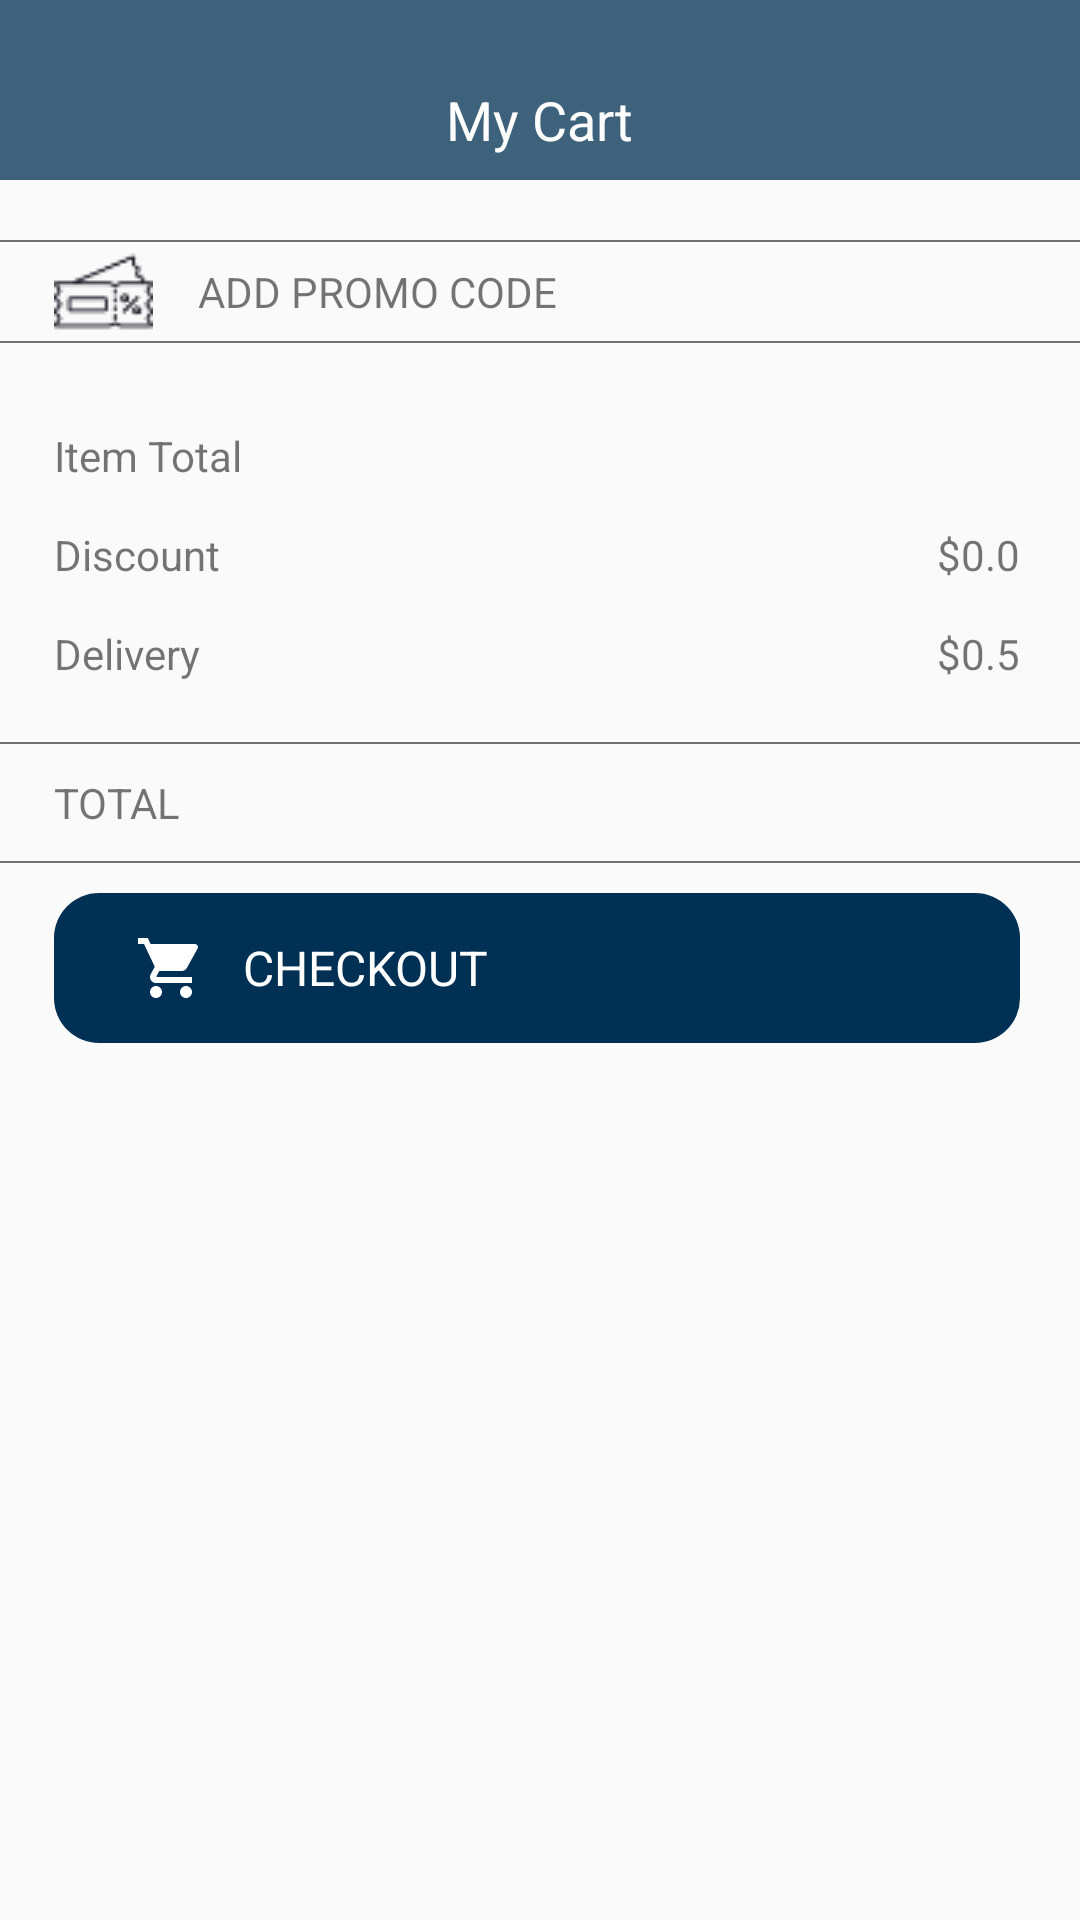

Screen size 1080×1920. Icon name, then its center in pixels as [x,y]:
copun: [103,292]
shopping cart: [168,968]
